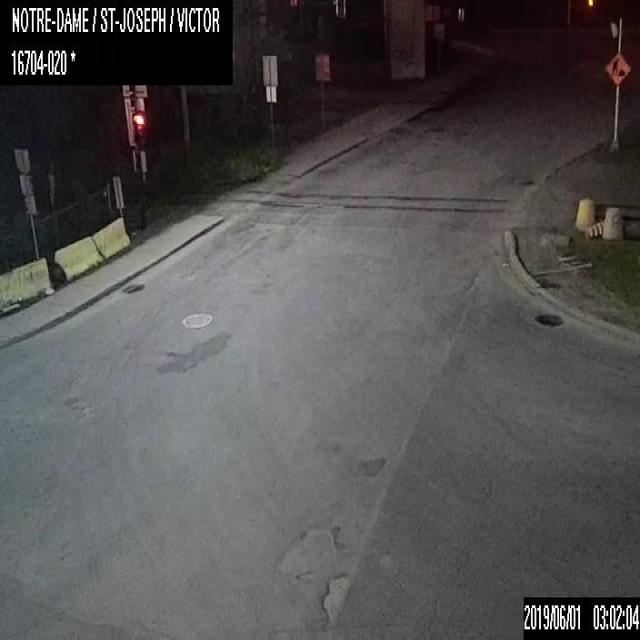construction: (605, 52, 630, 83), (585, 222, 603, 236)
